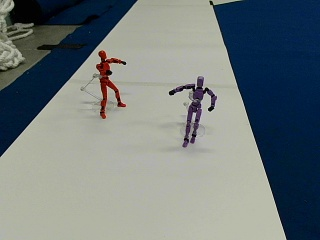pedestrian: (168, 75, 215, 145), (95, 48, 126, 117)
